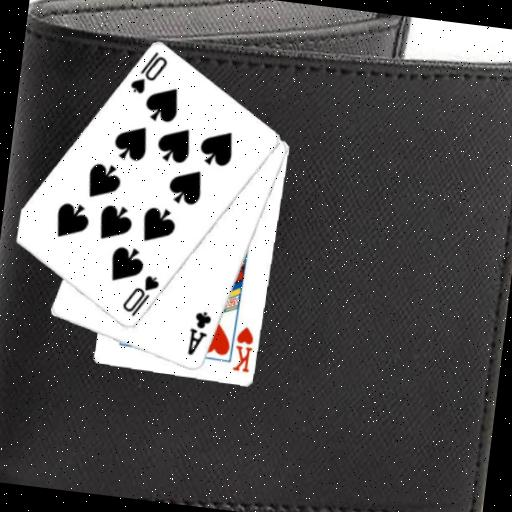10S: (126, 46, 171, 99), (119, 269, 163, 321)
AC: (183, 307, 214, 359)
KH: (230, 323, 257, 374)
